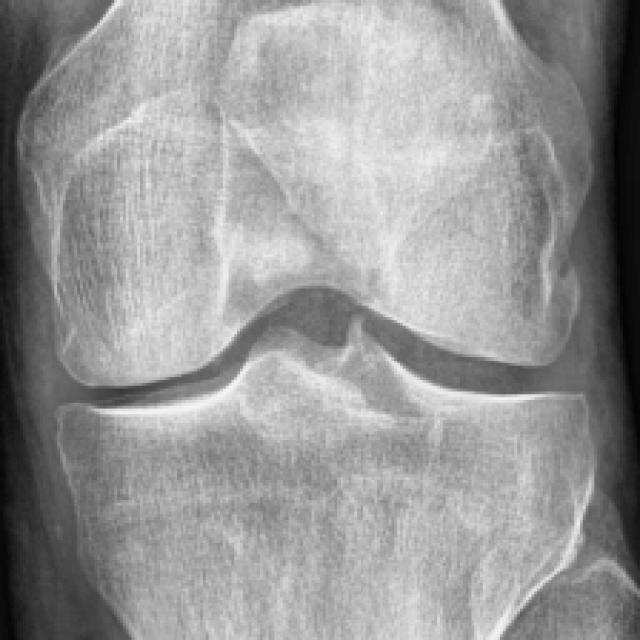femur: (16, 0, 590, 387)
tibia: (55, 331, 596, 640)
